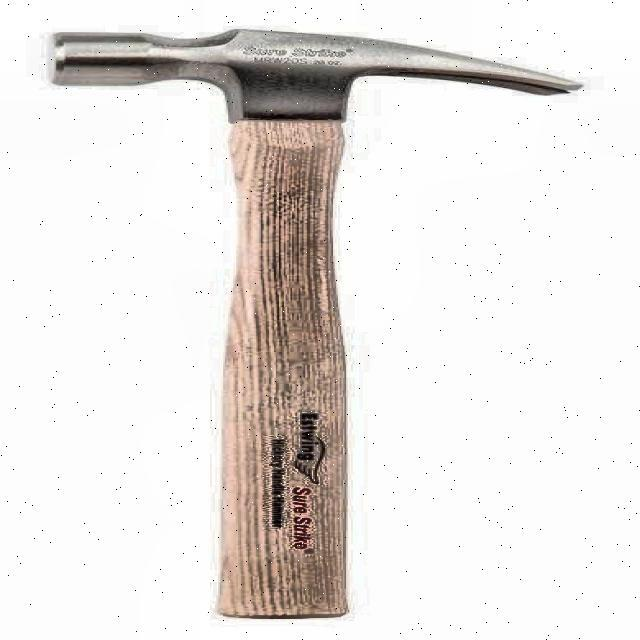hammer: (51, 20, 600, 620)
